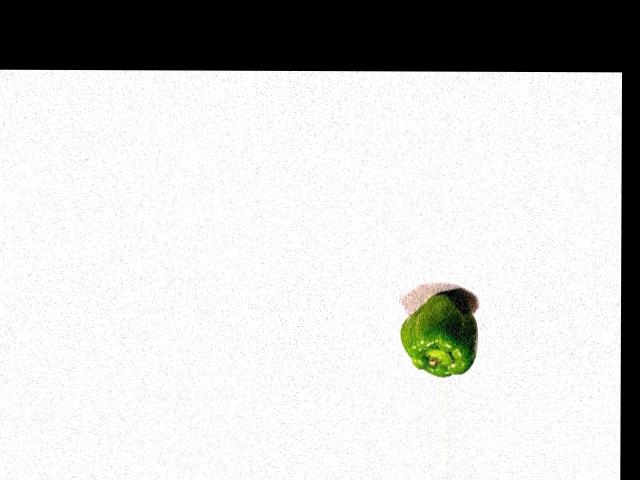bell_pepper: (397, 289, 479, 376)
